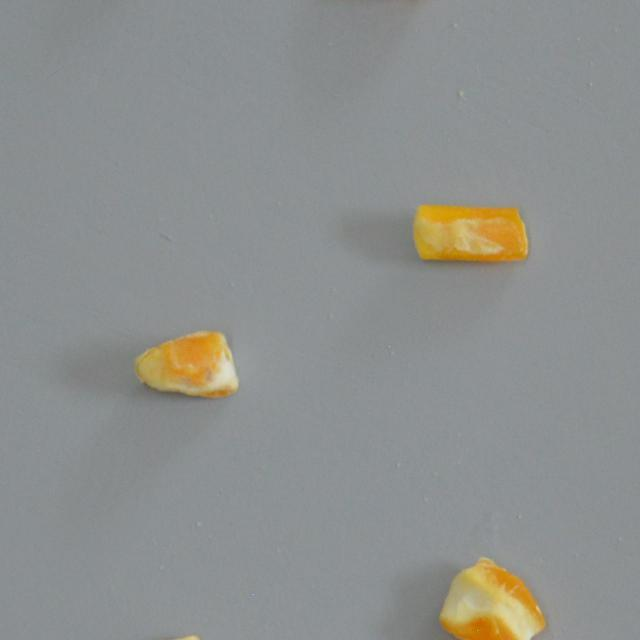pelicula: (437, 556, 546, 640), (131, 328, 243, 396), (407, 204, 534, 260), (137, 628, 220, 640)
